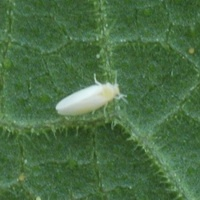insect: (56, 73, 124, 114)
